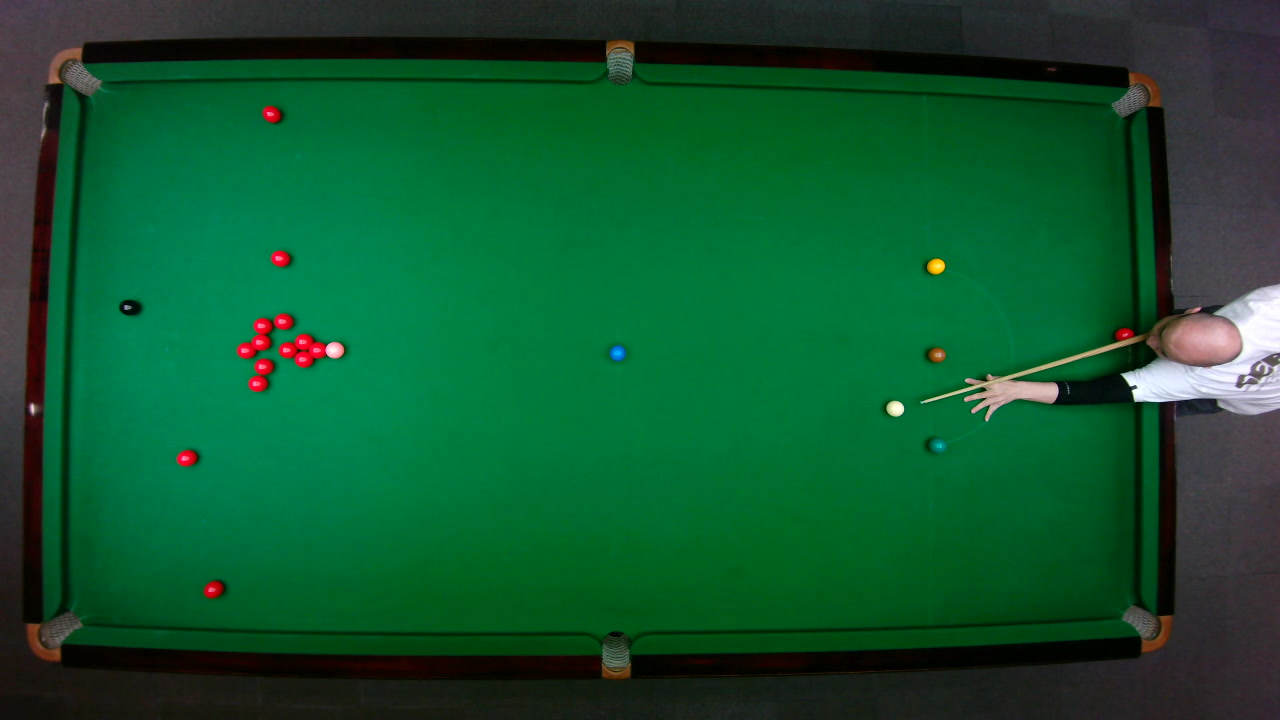bag: (24, 609, 84, 661), (45, 46, 102, 96), (1119, 603, 1171, 652), (1108, 71, 1161, 118), (600, 629, 629, 680), (605, 38, 633, 85)
black: (117, 298, 140, 315)
blue: (608, 343, 626, 361)
brown: (926, 346, 946, 362)
cue: (919, 326, 1154, 405)
green: (926, 436, 947, 453)
pink: (323, 340, 345, 359)
red: (202, 578, 224, 599), (1112, 326, 1137, 344), (234, 340, 256, 358), (175, 448, 197, 466), (246, 374, 268, 392), (252, 357, 274, 375), (261, 104, 281, 123), (272, 312, 293, 330), (269, 249, 290, 267), (251, 316, 272, 334), (292, 350, 314, 367), (277, 340, 297, 358), (249, 333, 270, 350), (293, 332, 313, 349), (307, 340, 325, 358)
white: (884, 399, 905, 417)
yellow: (925, 257, 946, 274)
zone: (928, 266, 1014, 431)
